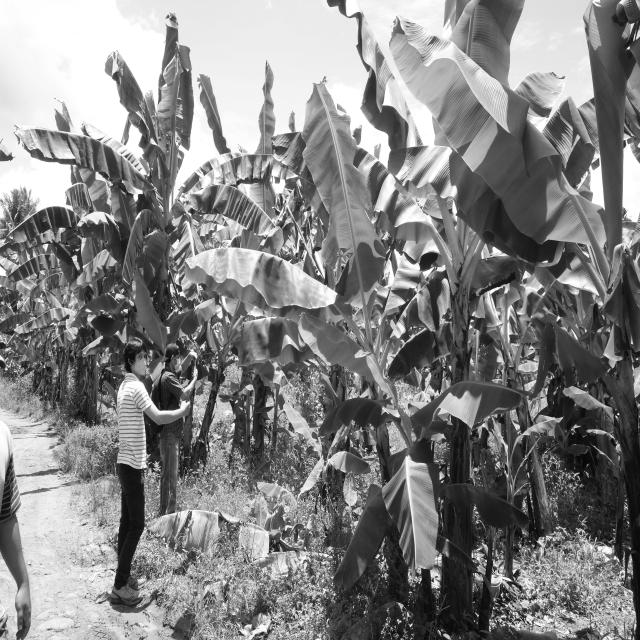Banana-plant: (434, 213, 480, 631)
